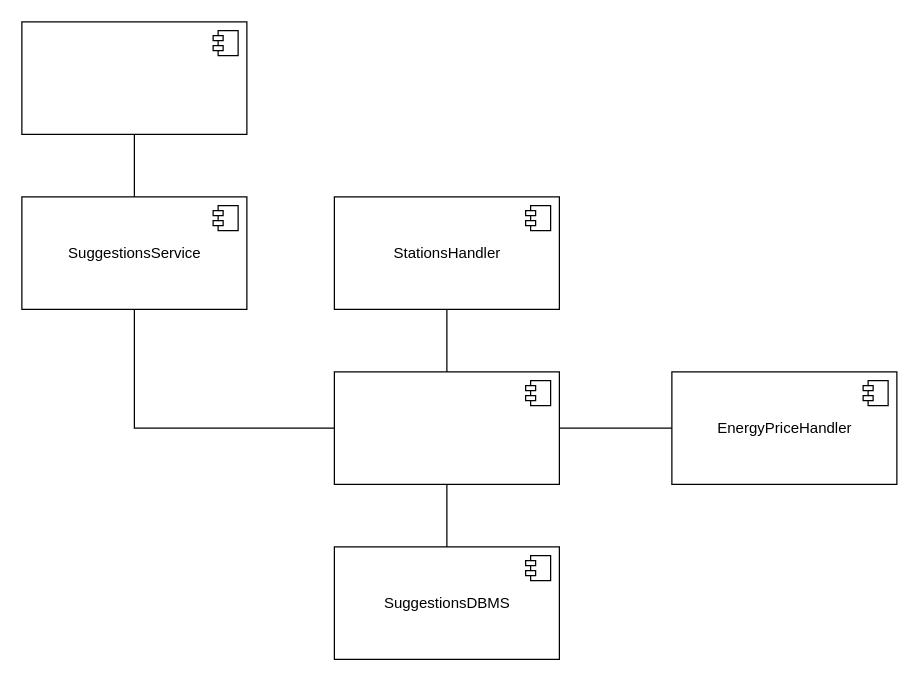
This 919x681 diagram has some shape labels left out. Each missing label, with the centre of its shape:
"ClientApplication" belongs at point (134, 77).
"SuggestionsProvider" belongs at point (446, 427).
